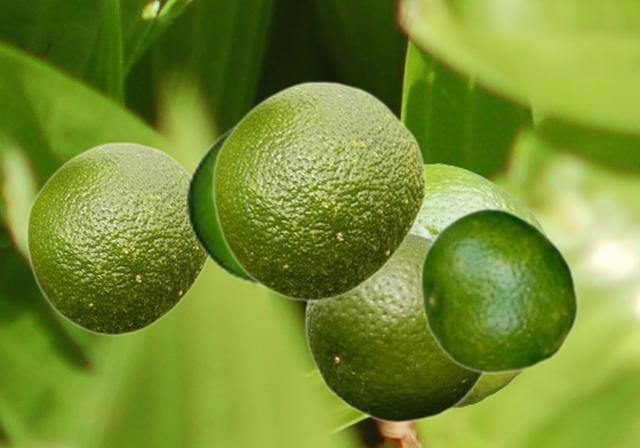calamansi: (211, 80, 426, 302), (25, 141, 209, 336), (304, 231, 485, 423), (418, 206, 579, 374), (458, 171, 551, 407), (184, 115, 260, 287), (413, 163, 530, 236)
